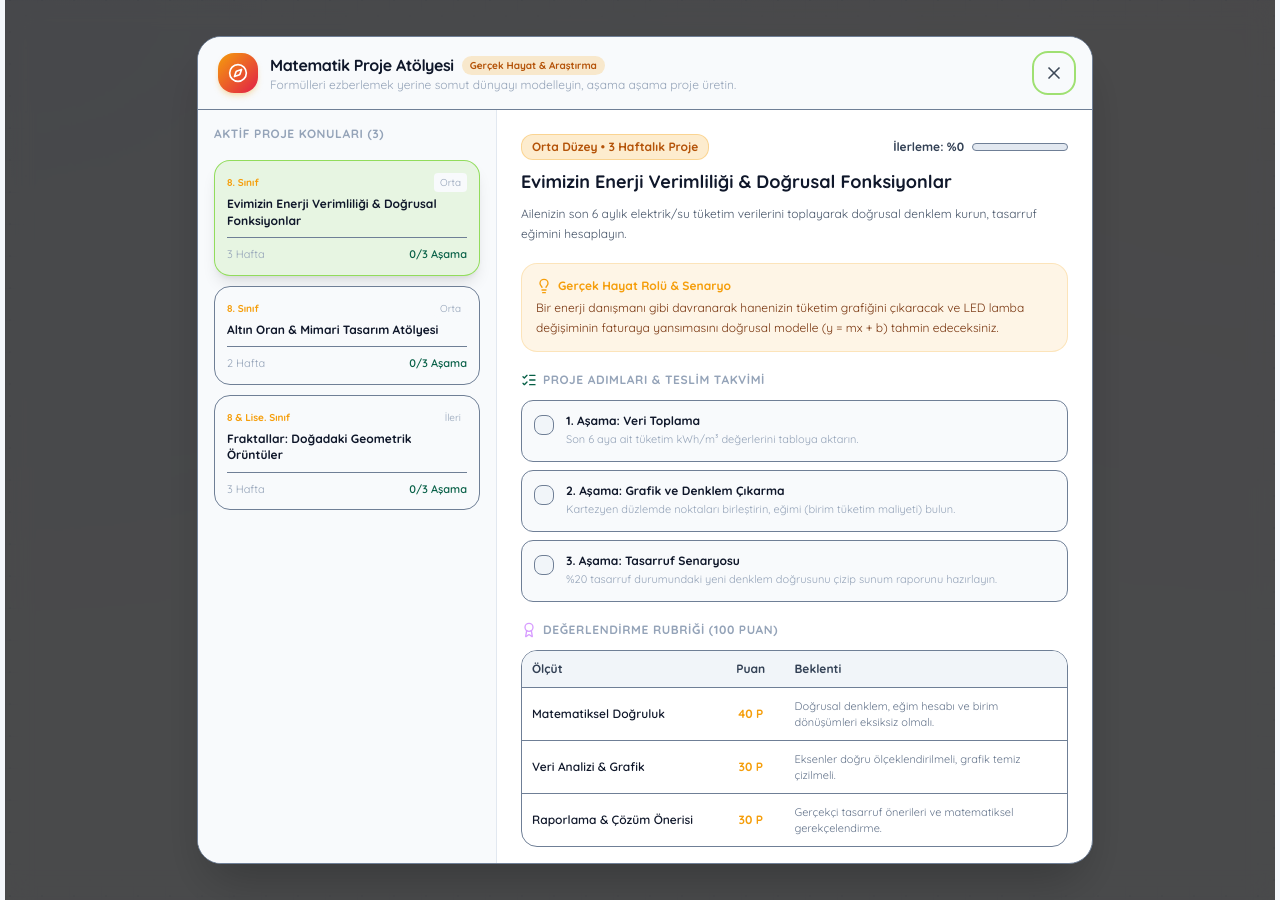
MathProjectWorkshopModal Component › switches active project when another project is selected from sidebar
The image size is (1280, 900).
Click on Altın Oran project
Click the button "Altın Oran & Mimari Tasarım Atölyesi". click: (347, 335)
box: [214, 286, 480, 384]
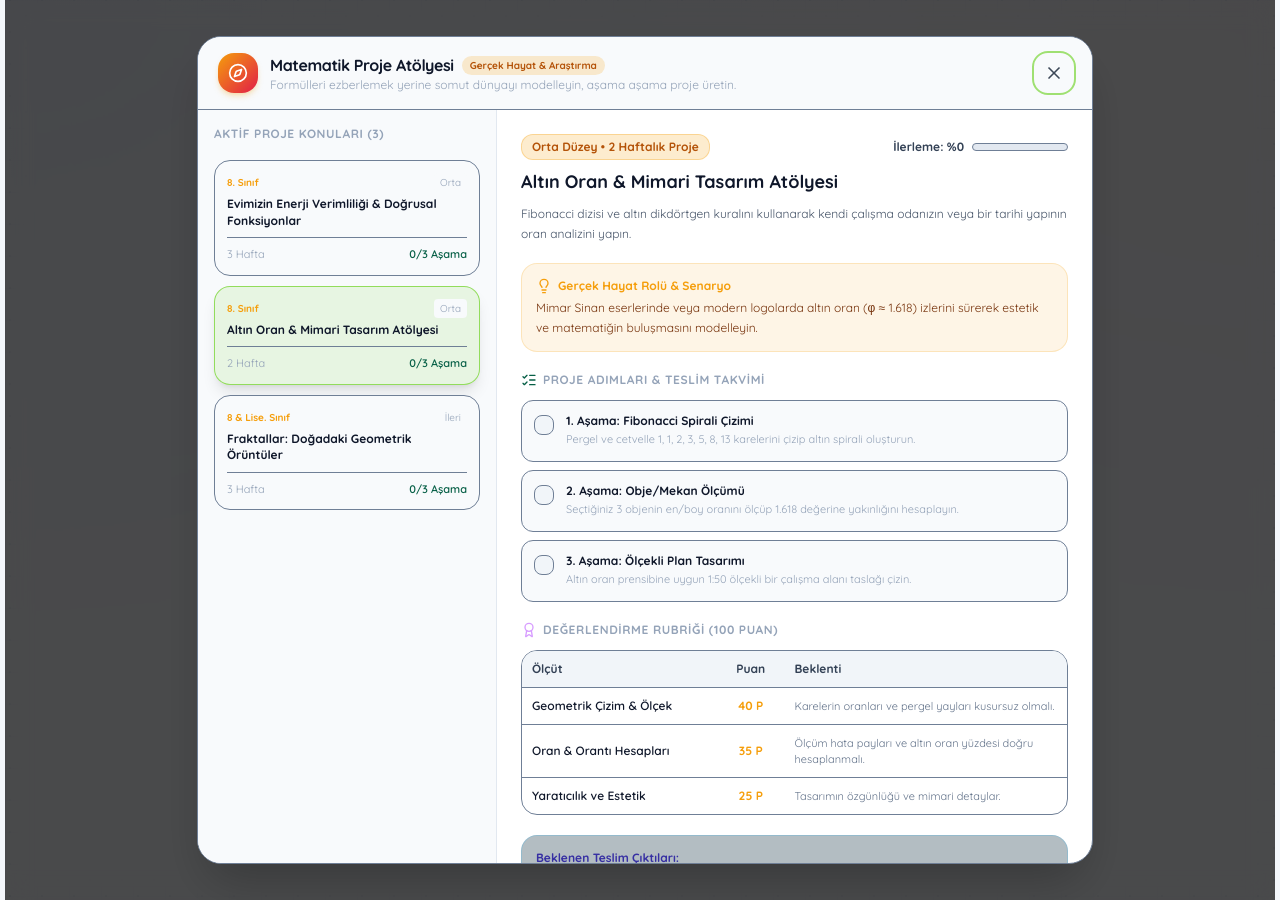
Check: the text "1. Aşama: Fibonacci Spirali Çizimi" is shown, box [566, 413, 754, 429]
